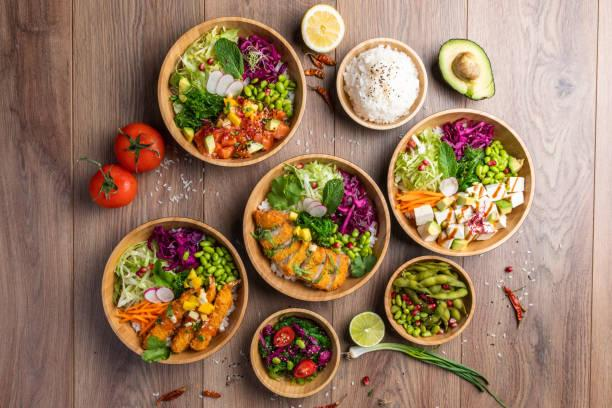Braised Crucian Carp: (156, 16, 304, 167), (241, 155, 388, 301), (101, 217, 247, 363), (388, 108, 532, 255)
